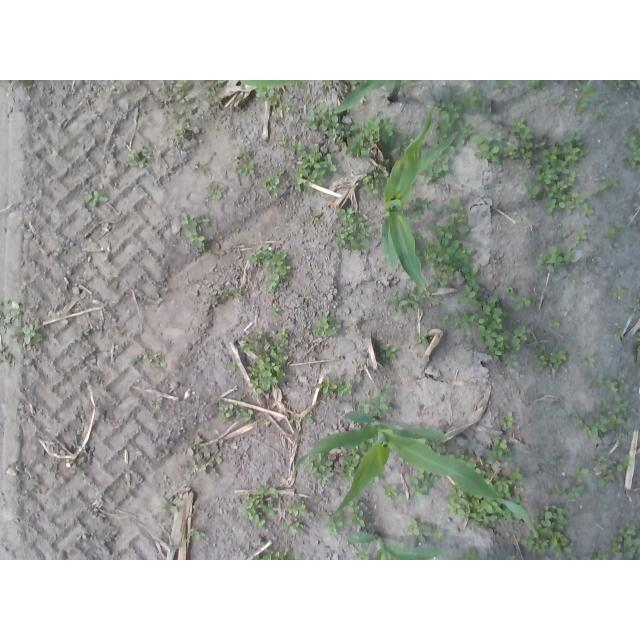Maize: (293, 410, 540, 538), (381, 106, 459, 302), (241, 80, 408, 113), (346, 532, 443, 561)
Weeds: (455, 295, 529, 358), (535, 130, 586, 214), (422, 238, 484, 306), (446, 478, 524, 527), (247, 337, 290, 396), (573, 401, 636, 437), (288, 146, 336, 193), (248, 245, 290, 292), (244, 483, 281, 530), (188, 435, 222, 477), (333, 218, 372, 248), (612, 524, 640, 561), (304, 453, 334, 487), (533, 505, 569, 532), (537, 245, 572, 271), (573, 80, 595, 121), (624, 119, 640, 170), (534, 344, 567, 366), (547, 529, 574, 554), (346, 499, 368, 528), (357, 169, 379, 197), (406, 517, 430, 542), (432, 109, 453, 137), (474, 142, 502, 163), (446, 209, 471, 232), (491, 435, 513, 461), (310, 317, 340, 336), (128, 148, 153, 169), (387, 291, 409, 314), (361, 114, 380, 140), (83, 189, 110, 207), (519, 137, 535, 167), (522, 536, 551, 552), (462, 87, 482, 110), (320, 114, 341, 135), (596, 464, 614, 488), (364, 397, 388, 415), (430, 224, 451, 244), (347, 137, 370, 155), (23, 325, 44, 344), (256, 548, 288, 560), (326, 511, 343, 533), (158, 497, 182, 512), (316, 376, 337, 393), (285, 500, 307, 516), (603, 221, 622, 239), (186, 232, 206, 249), (451, 452, 477, 465), (451, 548, 476, 561), (381, 117, 393, 143), (410, 477, 427, 495), (380, 343, 397, 361), (236, 408, 255, 424), (261, 175, 280, 191), (392, 138, 410, 154), (435, 155, 450, 174), (337, 207, 357, 221), (235, 161, 255, 175), (383, 485, 400, 501), (500, 410, 517, 426), (614, 396, 630, 413), (240, 336, 256, 353), (513, 297, 532, 311), (618, 454, 631, 474), (408, 284, 424, 300), (219, 403, 235, 419), (510, 116, 525, 133), (407, 205, 424, 220), (351, 546, 369, 560), (503, 145, 521, 159), (283, 520, 302, 533), (337, 380, 352, 396), (525, 183, 540, 199), (416, 329, 430, 345), (152, 354, 168, 368), (206, 185, 222, 199), (448, 102, 462, 118), (581, 353, 596, 367), (415, 197, 434, 208), (587, 552, 609, 561), (573, 468, 587, 482), (190, 217, 209, 227), (224, 287, 240, 298), (459, 123, 475, 134), (206, 90, 219, 103), (570, 485, 584, 497), (205, 80, 226, 88), (503, 285, 518, 296), (421, 169, 432, 184), (130, 354, 143, 366), (451, 195, 462, 209), (4, 300, 20, 309), (582, 203, 594, 215), (311, 210, 324, 221), (304, 119, 317, 130), (432, 103, 445, 114), (574, 229, 587, 240), (488, 130, 502, 140), (177, 80, 192, 89), (510, 469, 522, 480), (192, 528, 204, 539), (268, 305, 280, 316), (150, 398, 162, 409), (164, 106, 176, 117), (344, 125, 356, 136), (595, 106, 606, 118), (416, 469, 429, 479), (614, 288, 627, 298), (605, 380, 615, 393), (496, 80, 512, 88), (470, 135, 484, 144), (5, 313, 16, 324), (173, 125, 184, 136), (607, 176, 618, 187), (438, 314, 450, 324), (504, 358, 516, 368), (552, 457, 567, 465), (614, 434, 627, 443), (557, 95, 566, 108), (593, 453, 604, 463), (551, 485, 562, 495), (3, 351, 13, 362), (174, 89, 184, 100), (522, 127, 533, 137), (306, 412, 315, 424), (319, 80, 328, 92), (289, 410, 297, 423), (226, 361, 236, 371), (209, 295, 219, 305), (318, 103, 328, 113), (595, 183, 605, 193), (613, 80, 623, 90), (415, 247, 425, 257), (310, 110, 319, 121), (180, 213, 189, 224), (277, 328, 290, 335), (239, 146, 249, 155), (267, 98, 277, 107), (527, 80, 542, 86), (80, 328, 91, 336), (255, 90, 266, 98), (460, 133, 468, 144), (475, 469, 487, 476), (281, 102, 289, 112), (630, 80, 640, 88), (547, 318, 557, 326), (636, 346, 640, 366), (616, 373, 624, 383), (337, 132, 343, 145), (535, 142, 546, 149), (596, 373, 603, 384), (434, 530, 442, 539), (189, 106, 197, 115), (266, 88, 274, 97), (594, 248, 602, 257), (413, 234, 422, 242), (253, 330, 263, 337), (269, 115, 279, 122), (279, 135, 286, 145), (635, 294, 640, 306), (203, 166, 210, 174), (277, 167, 284, 175), (626, 308, 634, 315), (449, 146, 456, 154), (442, 205, 451, 211), (569, 274, 576, 281), (636, 333, 640, 344), (296, 142, 302, 149), (195, 163, 201, 170), (560, 233, 566, 240), (231, 157, 239, 162), (291, 135, 297, 141), (290, 144, 295, 151), (618, 331, 623, 338), (186, 125, 191, 131), (508, 556, 515, 560), (211, 124, 218, 128)
